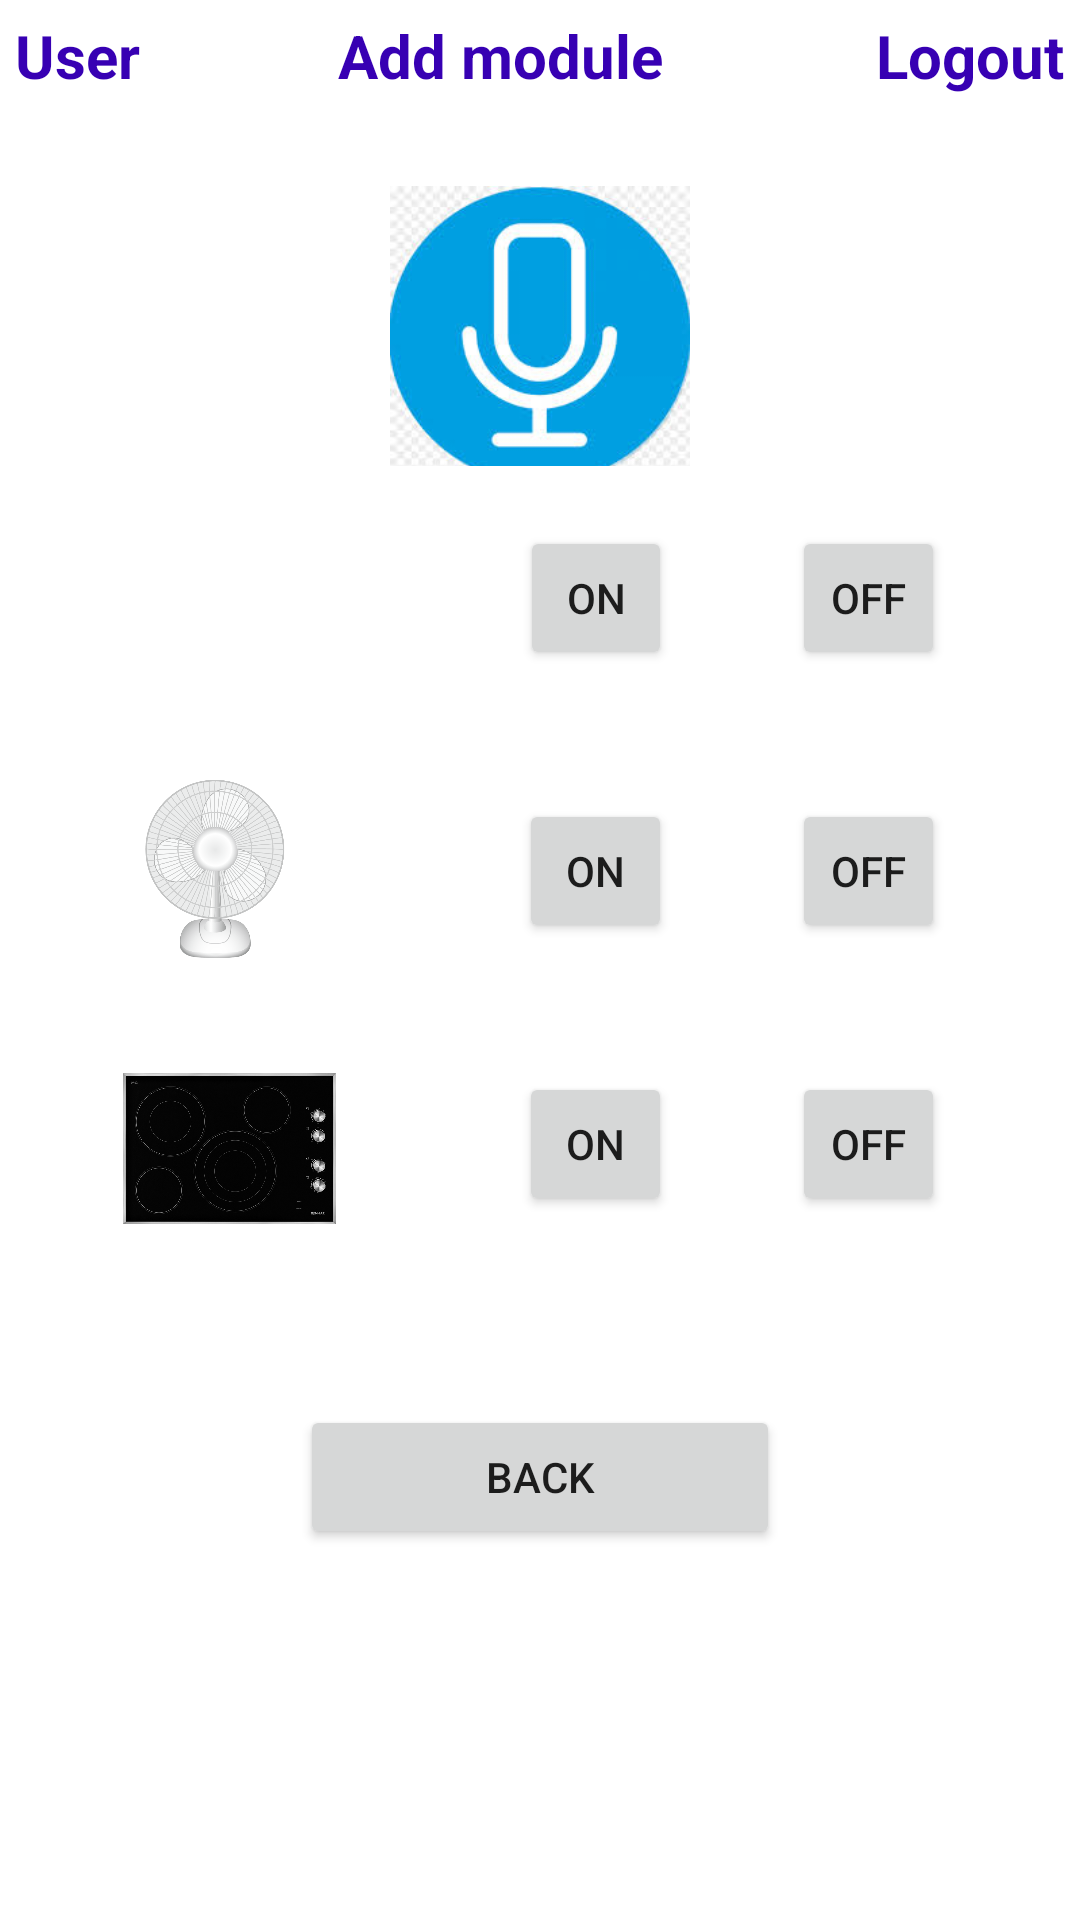

Icons on this 1080 × 1920 Android screen, each with its box as [x1, y1, x2, y2]:
fan: [145, 780, 284, 958]
stove: [123, 1073, 336, 1224]
